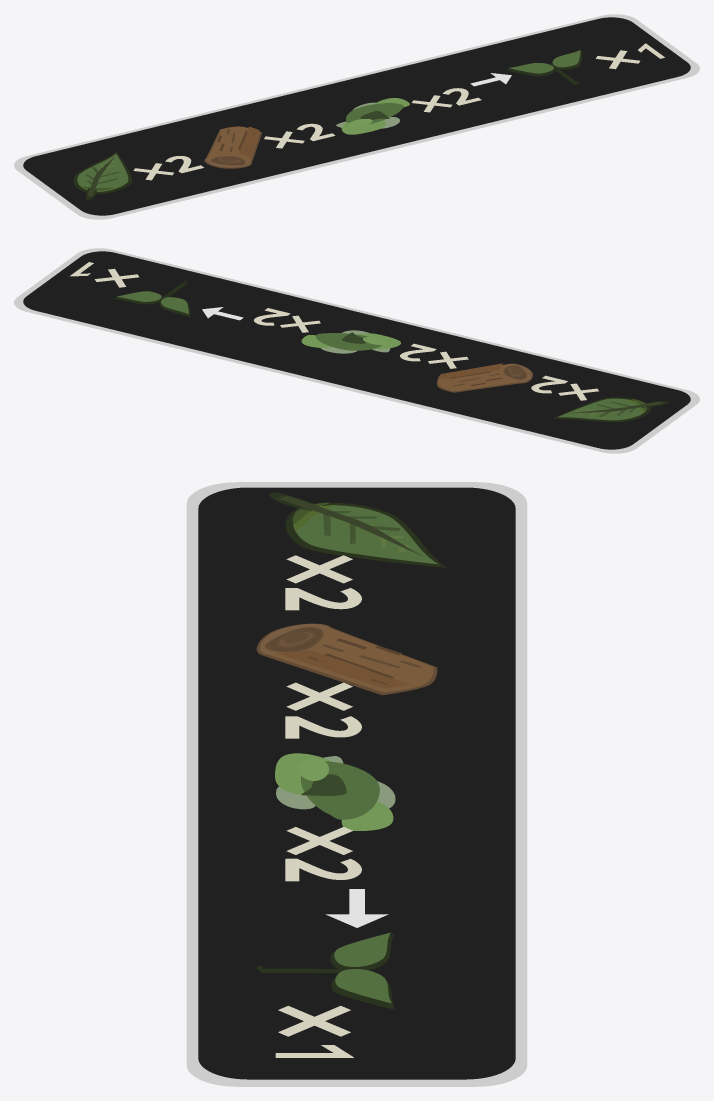
File: SEICHOUNOYATSU.fbx
3 renders of one model, top to bottom at view 1: azimuth 30°, elevation 25°; view 2: azimuth 150°, elevation 25°; view 3: azimuth 270°, elevation 25°, orthographic. The views are drawn at different scales.
Parts seen in each view (by area): view 1: Curve.001, Curve, Curve.033, Curve.009, Curve.049, Curve.030, Curve.010, Curve.053; view 2: Curve.001, Curve, Curve.033, Curve.009, Curve.049, Curve.030, Curve.010, Curve.065; view 3: Curve.001, Curve, Curve.033, Curve.009, Curve.049, Curve.010, Curve.030, Curve.065, Curve.067, Curve.053, Curve.060, Curve.059 (+3 smaller).
Boxes of the visible parts, x1,y1,x2,y2 form: Curve.001: [23, 17, 690, 215]; Curve: [14, 14, 699, 219]; Curve.033: [77, 154, 128, 191]; Curve.009: [208, 126, 259, 162]; Curve.049: [346, 103, 403, 124]; Curve.030: [73, 152, 132, 193]; Curve.010: [239, 126, 259, 158]; Curve.053: [341, 120, 385, 134]; Curve.001: [23, 251, 690, 449]; Curve: [14, 248, 699, 453]; Curve.033: [558, 398, 646, 420]; Curve.009: [438, 364, 519, 391]; Curve.049: [316, 333, 382, 350]; Curve.030: [553, 397, 650, 422]; Curve.010: [438, 363, 502, 379]; Curve.065: [116, 291, 161, 301]; Curve.001: [198, 487, 515, 1079]; Curve: [186, 482, 527, 1086]; Curve.033: [293, 505, 437, 564]; Curve.009: [267, 628, 433, 692]; Curve.049: [301, 761, 379, 819]; Curve.010: [277, 649, 408, 688]; Curve.030: [285, 503, 446, 567]; Curve.065: [335, 969, 391, 1003]; Curve.067: [334, 932, 390, 966]; Curve.053: [275, 753, 331, 794]; Curve.060: [285, 858, 361, 881]; Curve.059: [285, 716, 361, 738].
Bounding box in the file's own units: 13.37 × 0.09 × 3.18.
